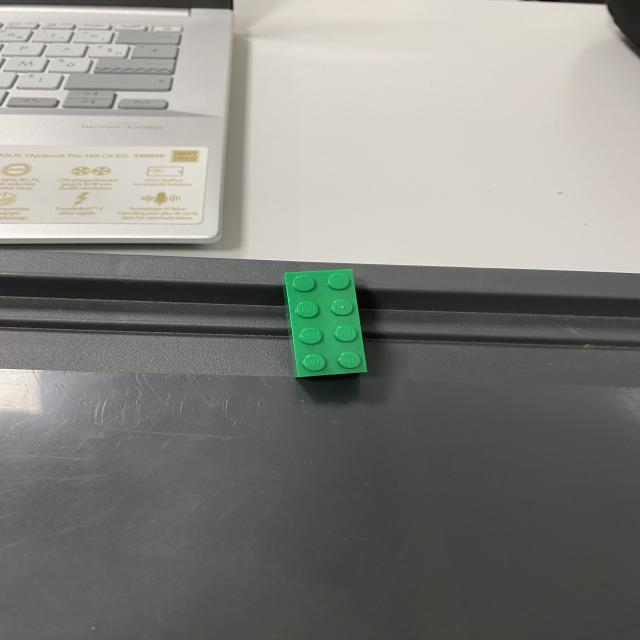C4x2x1: (288, 269, 369, 377)
